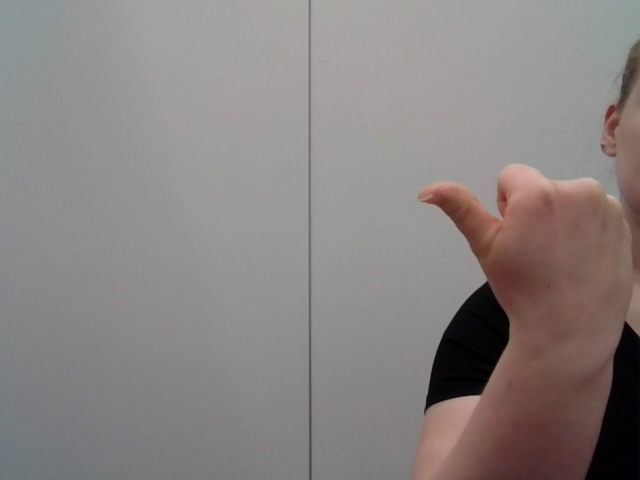right: (401, 152, 640, 419)
